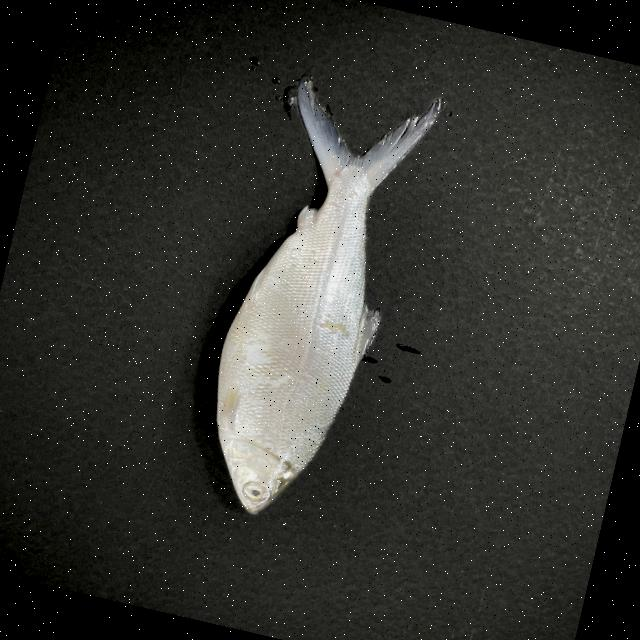325 g: (185, 63, 449, 537)
